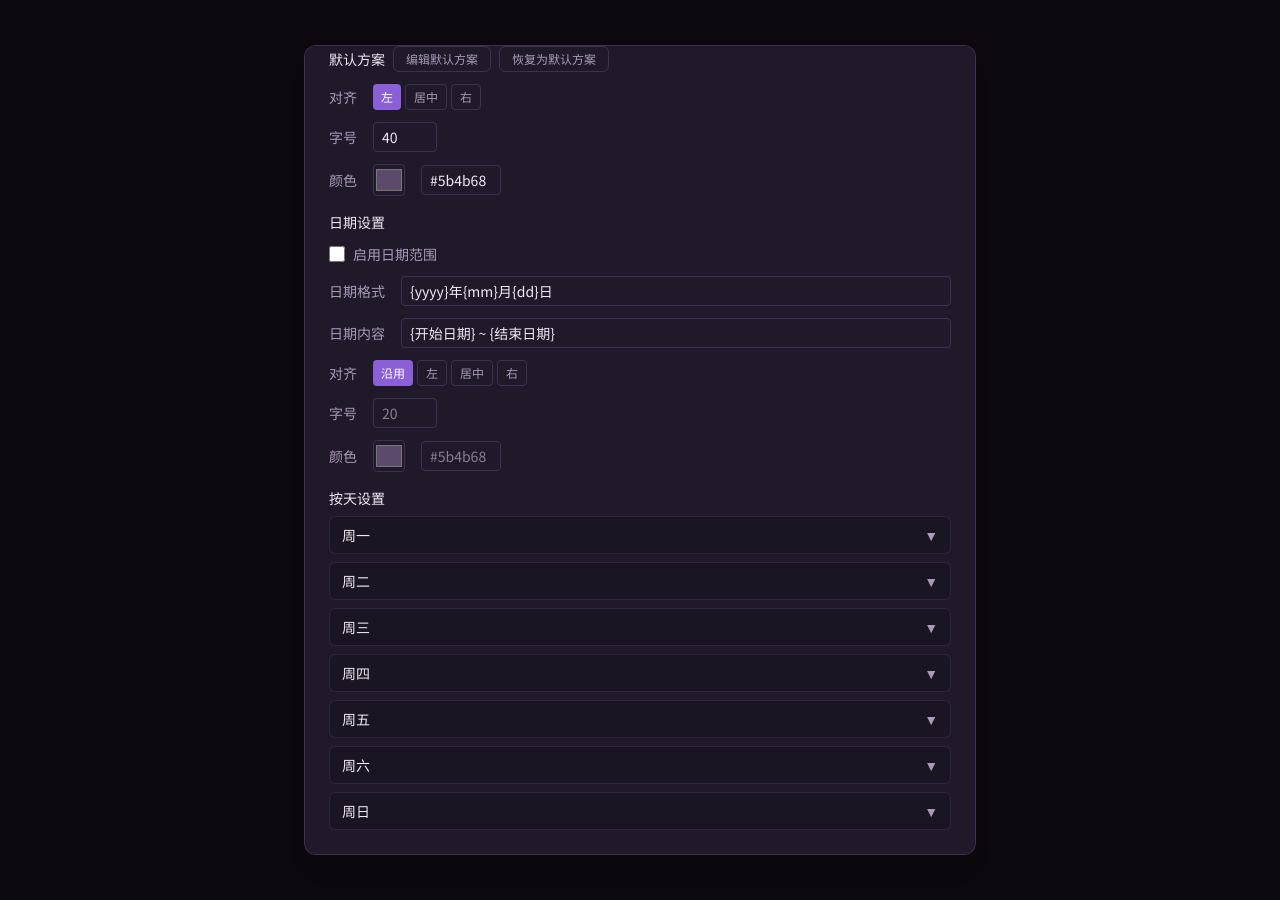
Test: WeeklyImageDialog › 展开按天设置面板
This screenshot has width=1280, height=900.
(page scrolled)
Click the text "周一".
click(356, 535)  # box [342,525,370,545]
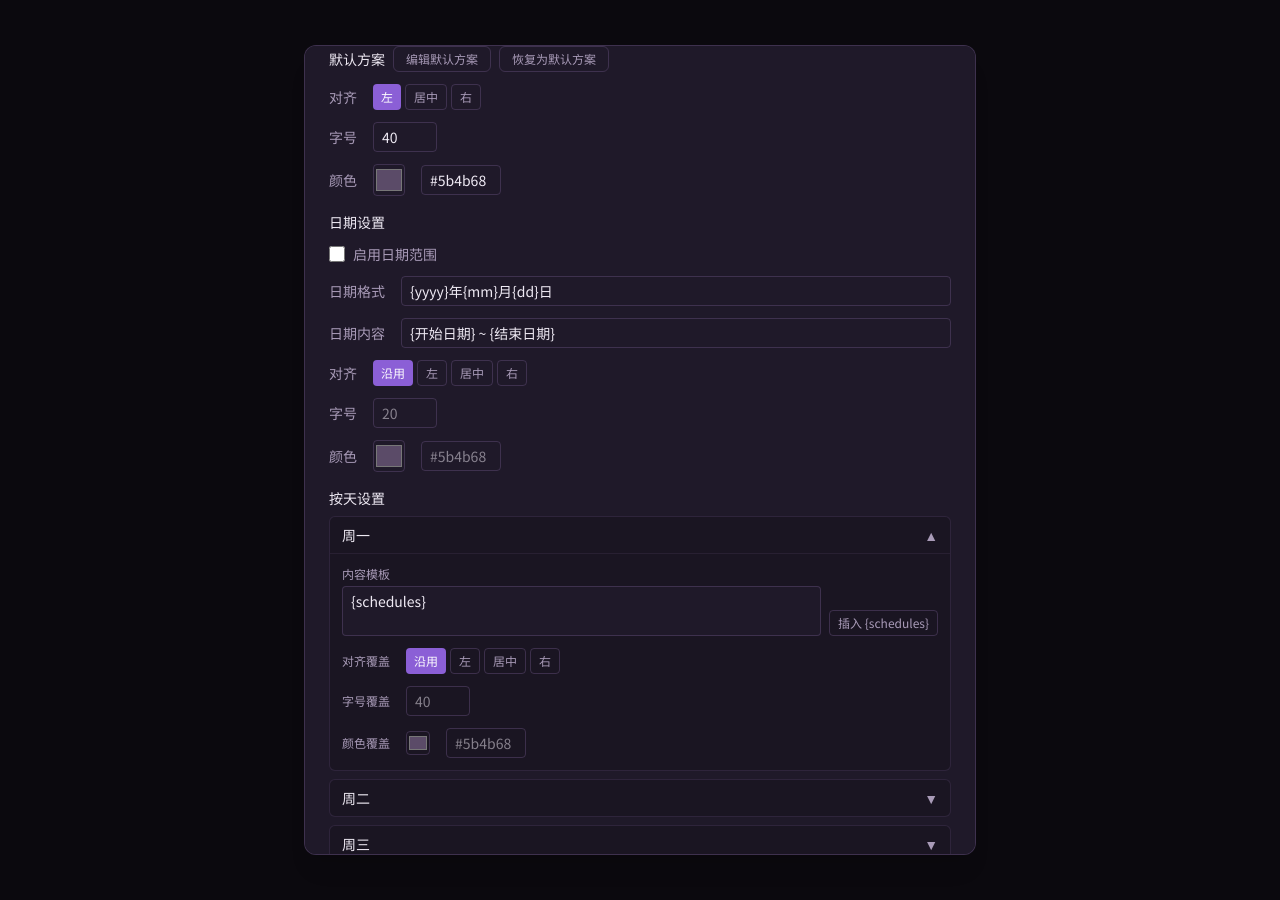
Expected: the text "内容模板" is shown, [342,565,390,582]
